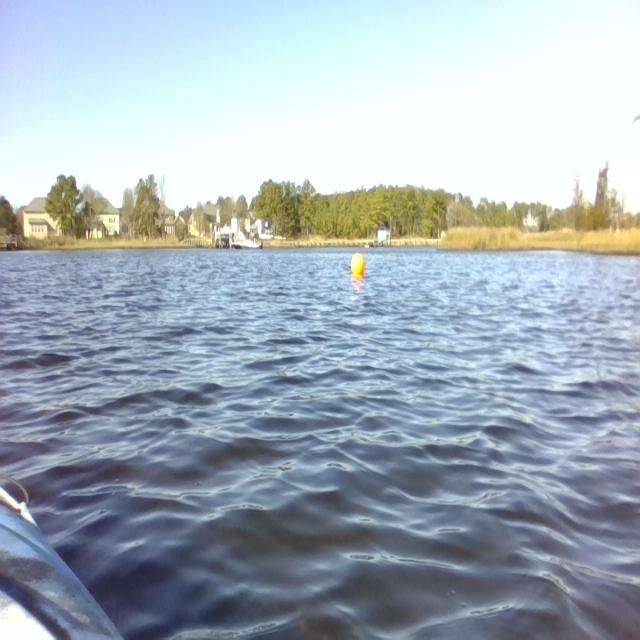Buoy: (349, 251, 366, 281)
